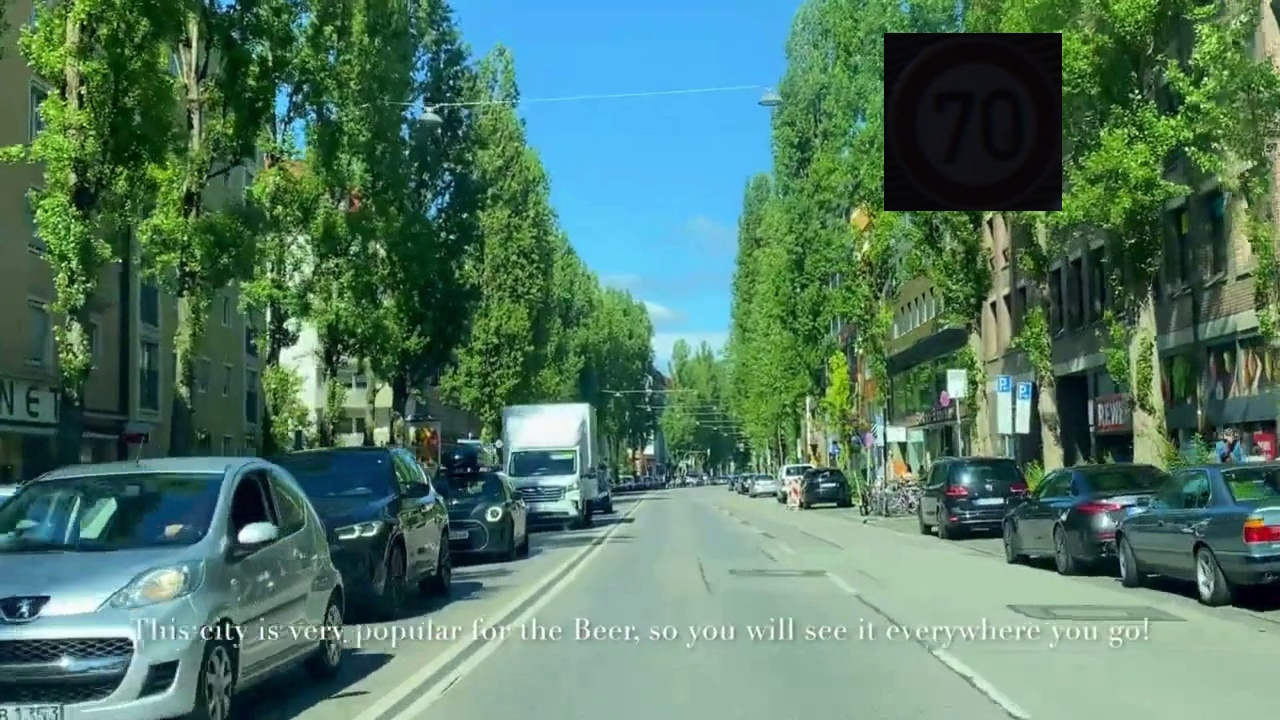Speed 70: (884, 33, 1062, 211)
